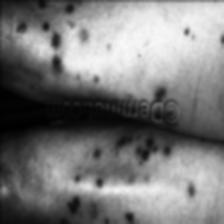Toxin: (68, 197, 78, 213), (90, 146, 100, 160), (52, 57, 60, 72)
